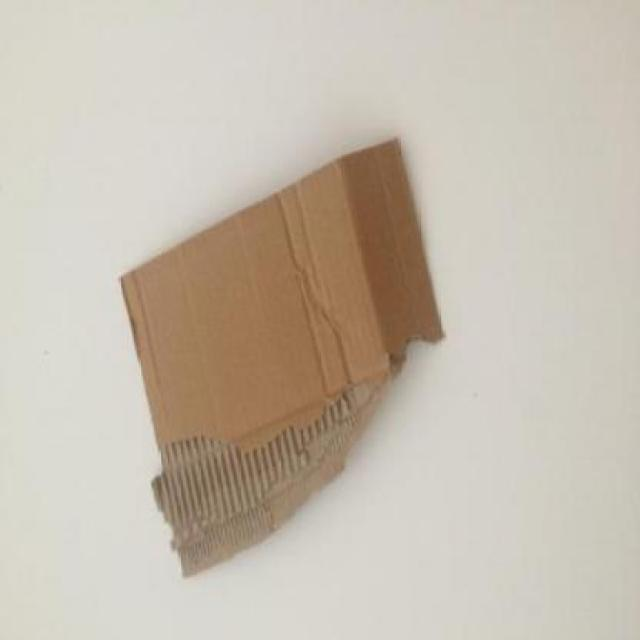box: (102, 105, 458, 595)
